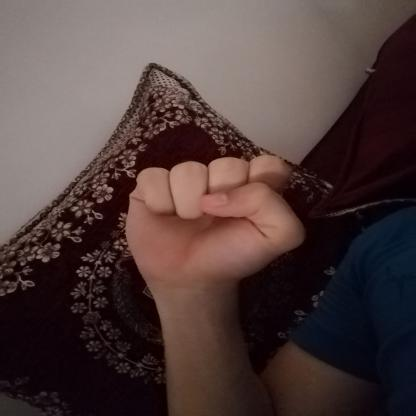SAD: (106, 135, 328, 298)
